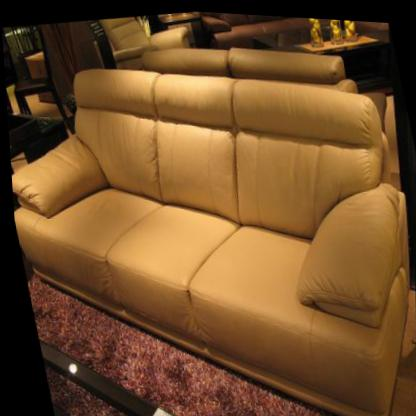Chair: (1, 25, 66, 130)
Sofa: (1, 13, 416, 416)
